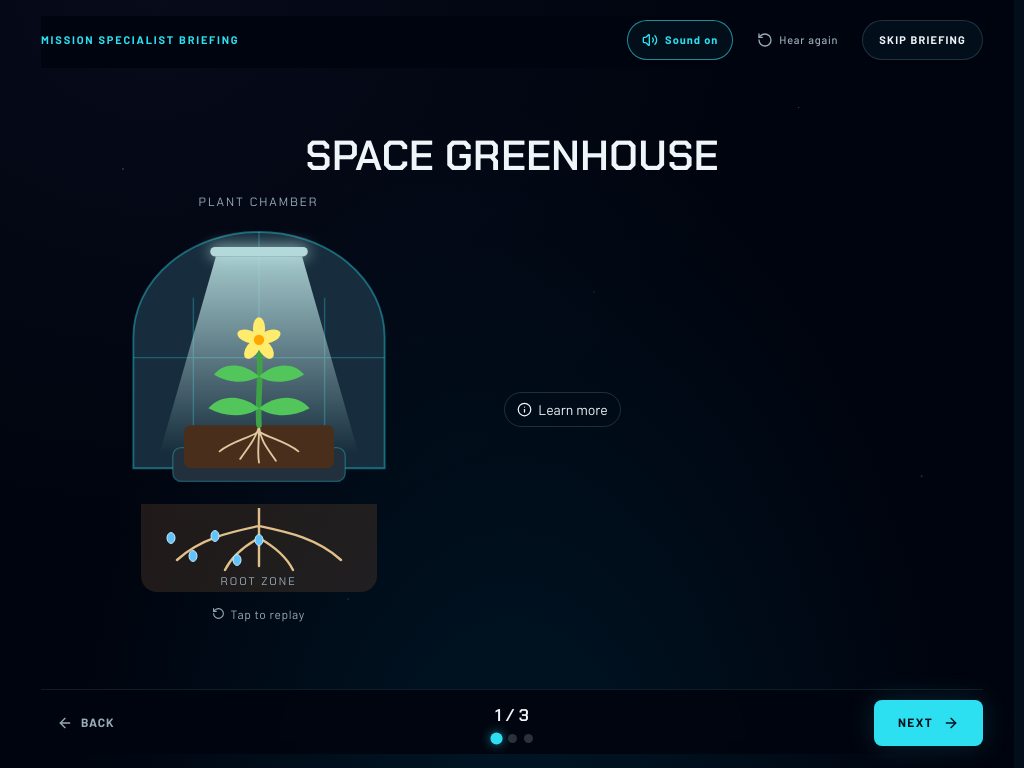
Scenario: Specialist Mission 2 briefing (ages 10-12) › with the voice on, each level starts as its sentence starts
Step 1. Click the button "NEXT" → (928, 723), box x1=874 y1=700 x2=983 y2=746
Wait 200 ms
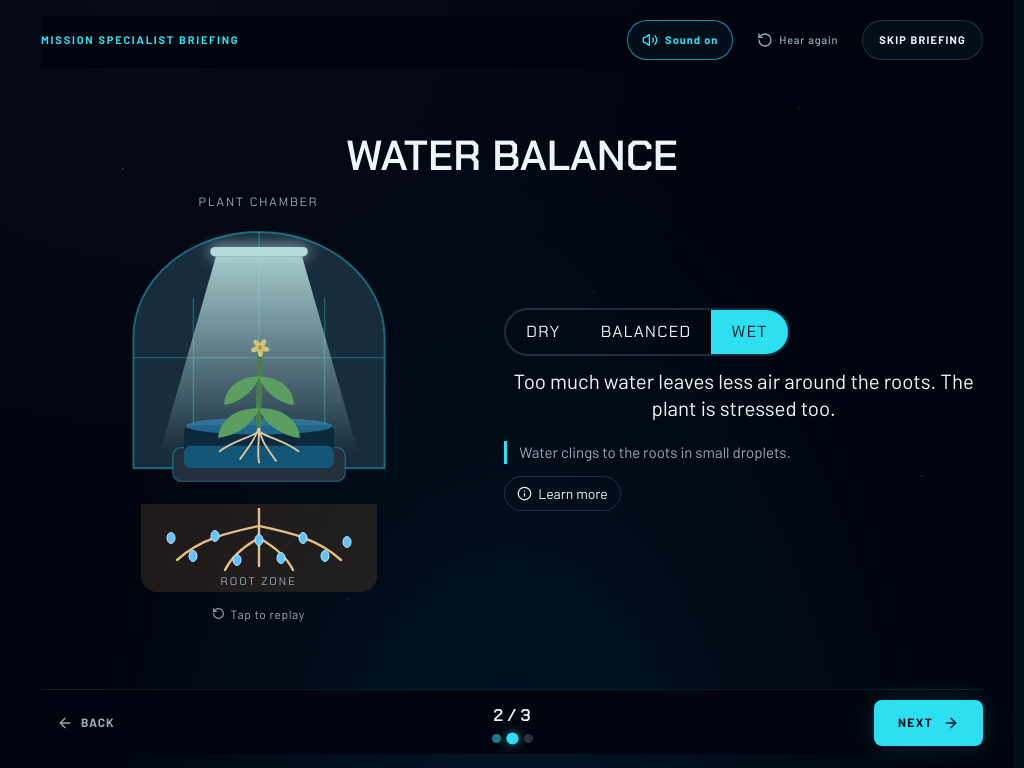
Expected: the radio button with class "ghs-seg-on" reads "BALANCED", x1=581 y1=310 x2=711 y2=354
Expected: the radio button with class "ghs-seg-on" reads "WET", x1=711 y1=310 x2=788 y2=354
